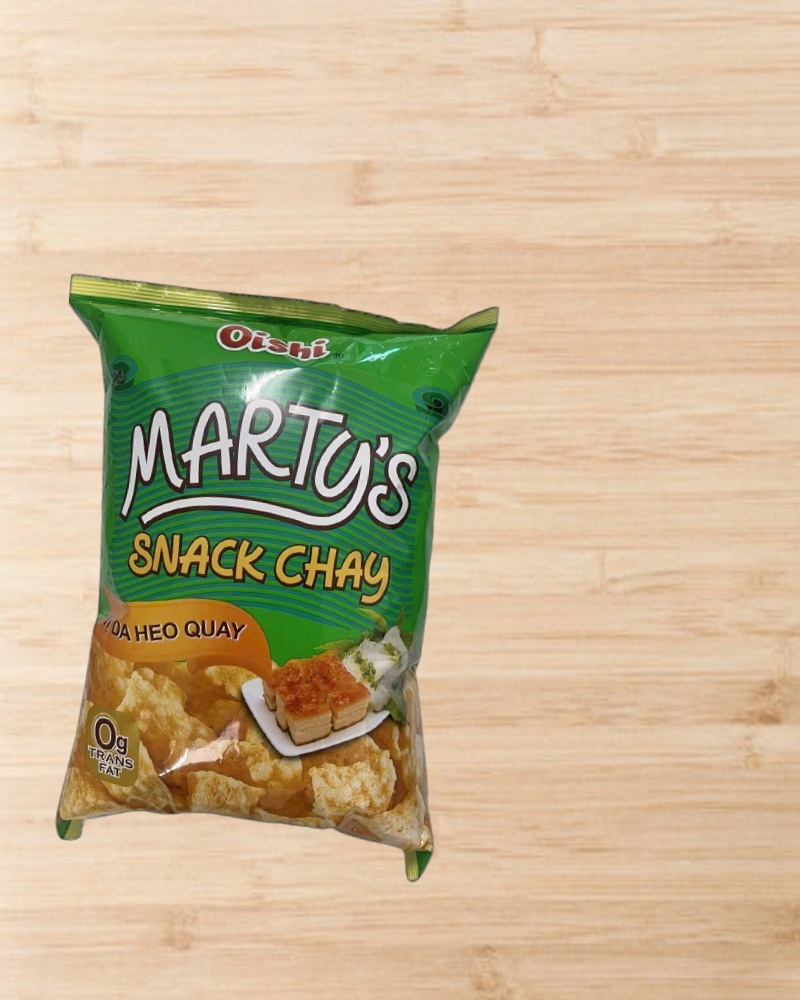Snack chay: (22, 270, 500, 886)
